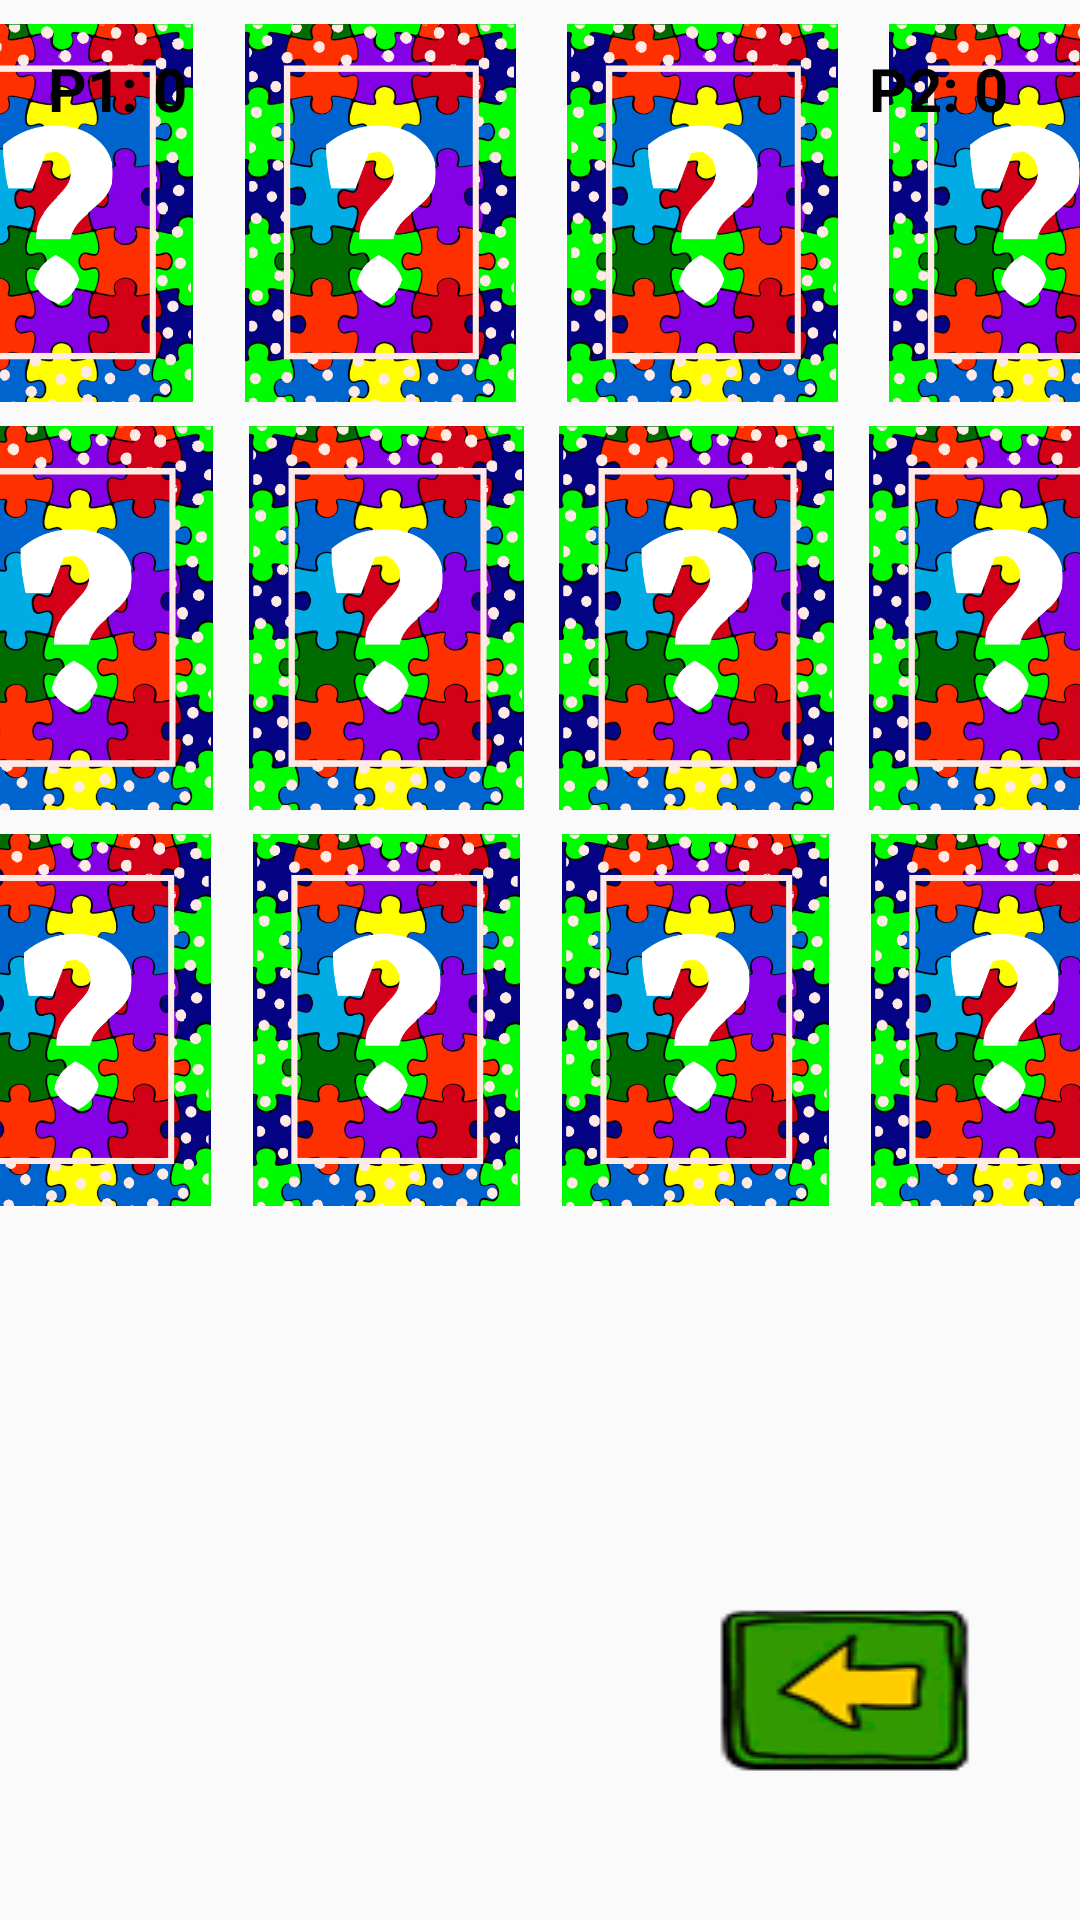

Named icons in this screenshot (1080px×1920px) and their centers, point (x, y):
voltar: point (844, 1690)
